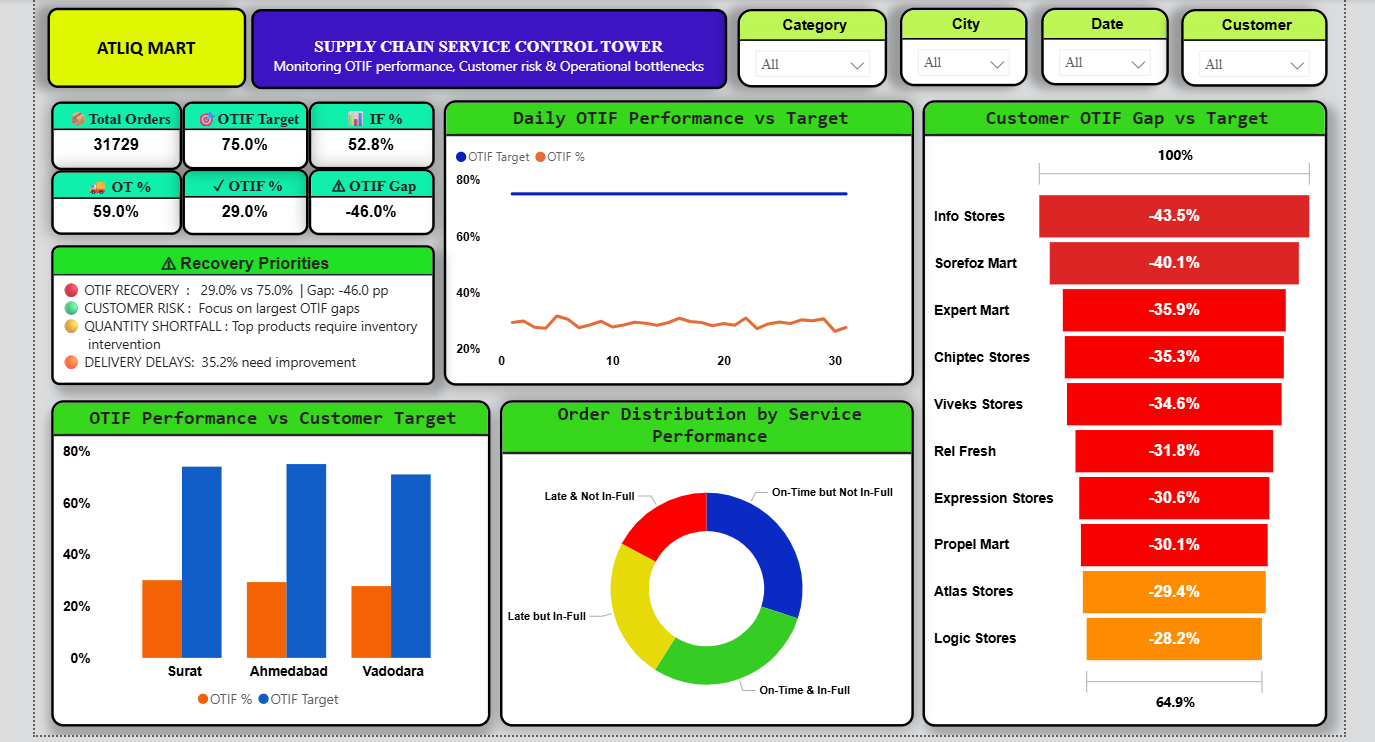

What the dashboard file says about the page in this screenshot:
{"tool":"powerbi","page":{"name":"Dashboard Overview","canvas":[1280,720],"ordinal":0},"visuals":[{"type":"card","title":"📦Total Orders","fields":{"Values":["_Measures.Total Orders"]},"box":[15.9,100.3,128.4,67.3],"z":0},{"type":"card","title":"🚚 OT %","fields":{"Values":["_Measures.OT %"]},"box":[15.9,167.5,128.4,63.6],"z":1000},{"type":"card","title":"📊 IF %","fields":{"Values":["_Measures.IF %"]},"box":[267.8,100.3,123.5,66],"z":2000},{"type":"card","title":"✓ OTIF %","fields":{"Values":["_Measures.OTIF %"]},"box":[144.3,166.3,123.5,64.8],"z":3000},{"type":"card","title":"🎯OTIF Target","fields":{"Values":["_Measures.OTIF Target"]},"box":[144.3,100.3,123.5,66],"z":4000},{"type":"card","title":"⚠ OTIF Gap","fields":{"Values":["_Measures.OTIF Gap"]},"box":[267.8,166.3,123.5,64.8],"z":5000},{"type":"clusteredColumnChart","title":"OTIF Performance vs Customer Target","fields":{"Category":["dim_customers.city"],"Y":["_Measures.OTIF %","_Measures.OTIF Target"]},"box":[15.9,392.5,429.2,319.2],"z":6000},{"type":"funnel","title":"Customer OTIF Gap vs Target","fields":{"Category":["dim_customers.customer_name"],"Y":["_Measures.OTIF Gap"]},"box":[868.2,99,396.2,612.6],"z":7000},{"type":"donutChart","title":"Order Distribution by Service Performance","fields":{"Category":["fact_orders_aggregate.Service Performance"],"Y":["_Measures.Service Orders"]},"box":[454.9,392.5,404.8,319.2],"z":8000},{"type":"lineChart","title":"Daily OTIF Performance vs Target","fields":{"Category":["dim_date.date.Variation.Date Hierarchy.Day"],"Y":["_Measures.OTIF Target","_Measures.OTIF %"]},"box":[399.9,99,459.8,278.8],"z":9000},{"type":"textbox","box":[211.6,9.8,465.9,78.3],"z":10000},{"type":"textbox","box":[12.2,8.6,194.4,78.3],"z":11000},{"type":"slicer","title":"Date","fields":{"Values":["dim_date.date"]},"box":[984.4,8.6,124.7,75.8],"z":12000},{"type":"slicer","title":"City","fields":{"Values":["dim_customers.city"]},"box":[846.2,8.6,124.7,77],"z":13000},{"type":"slicer","title":"Customer","fields":{"Values":["dim_customers.customer_name"]},"box":[1121.3,9.8,143.1,75.8],"z":14000},{"type":"slicer","title":"Category","fields":{"Values":["dim_products.category"]},"box":[687.2,9.8,146.7,77],"z":15000},{"type":"textbox","title":"⚠ Recovery Priorities","box":[15.9,240.9,375.4,137],"z":17000}]}

Visuals, with their boxes in screenshot pixels (x1, y1, x2, y2):
"📦Total Orders" card: box=[52, 98, 182, 167]
"🚚 OT %" card: box=[52, 166, 182, 231]
"📊 IF %" card: box=[308, 98, 433, 165]
"✓ OTIF %" card: box=[182, 165, 308, 231]
"🎯OTIF Target" card: box=[182, 98, 308, 165]
"⚠ OTIF Gap" card: box=[308, 165, 433, 231]
"OTIF Performance vs Customer Target" clusteredColumnChart: box=[52, 395, 488, 719]
"Customer OTIF Gap vs Target" funnel: box=[917, 97, 1319, 719]
"Order Distribution by Service Performance" donutChart: box=[498, 395, 909, 719]
"Daily OTIF Performance vs Target" lineChart: box=[442, 97, 909, 380]
textbox: box=[251, 6, 724, 86]
textbox: box=[48, 5, 246, 85]
"Date" slicer: box=[1035, 5, 1162, 82]
"City" slicer: box=[895, 5, 1021, 83]
"Customer" slicer: box=[1174, 6, 1319, 83]
"Category" slicer: box=[733, 6, 882, 85]
"⚠ Recovery Priorities" textbox: box=[52, 241, 433, 380]
